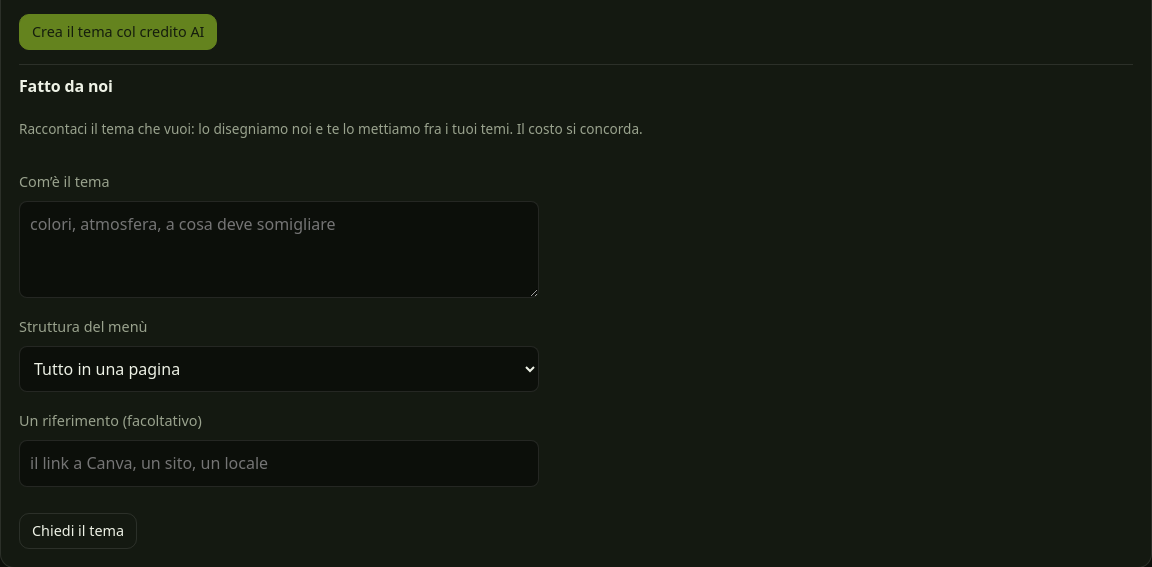
Scenario: i temi su misura nella dashboard › dal fornitore: il racconto, la struttura e un riferimento; poi dice che scriviamo noi
(page scrolled)
In the text box labelled "Com’è il tema": (279, 249) [19,201,539,298], type "Verde bosco, caratteri serif"
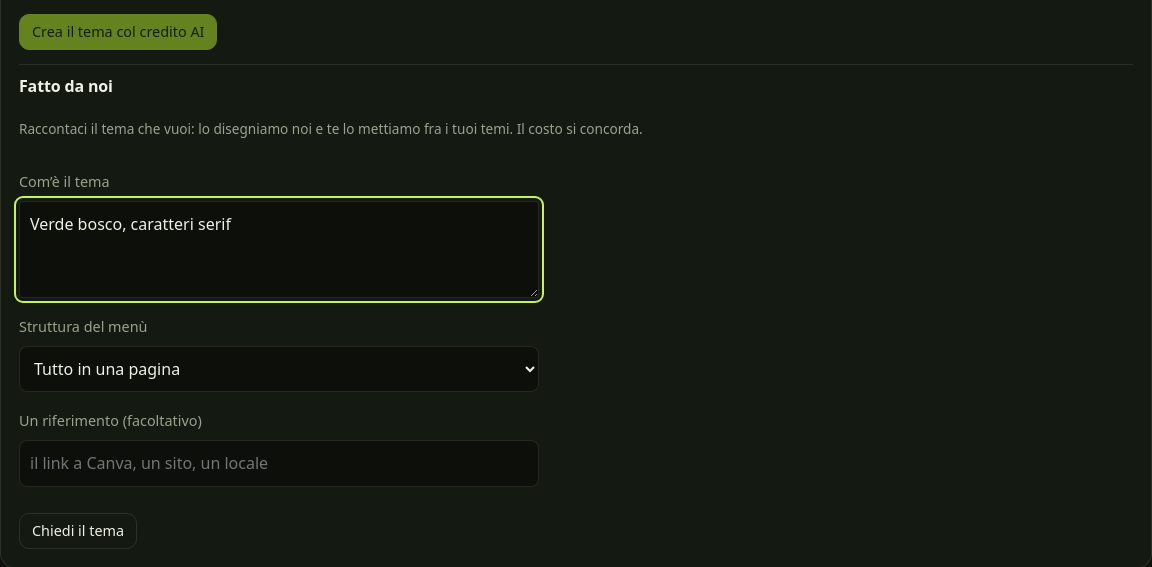
Select "Una pagina per categoria" in the dropdown labelled "Struttura del menù" below "Com’è il tema": (279, 369) [19,346,539,392]
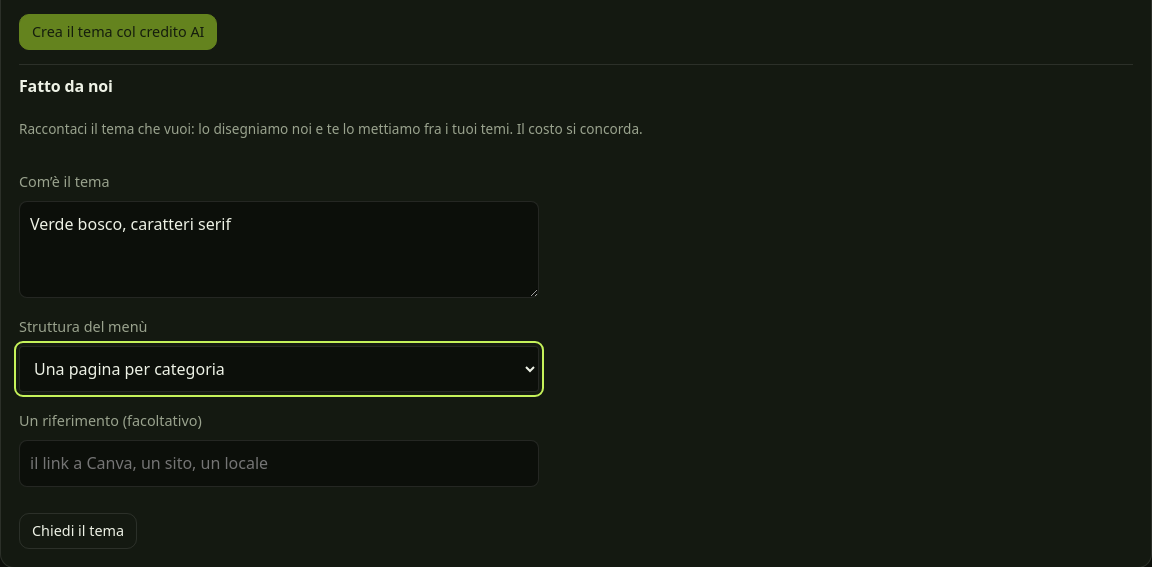
In the field labelled "Un riferimento (facoltativo)": (279, 464) [19,440,539,487], type "https://canva.com/x"
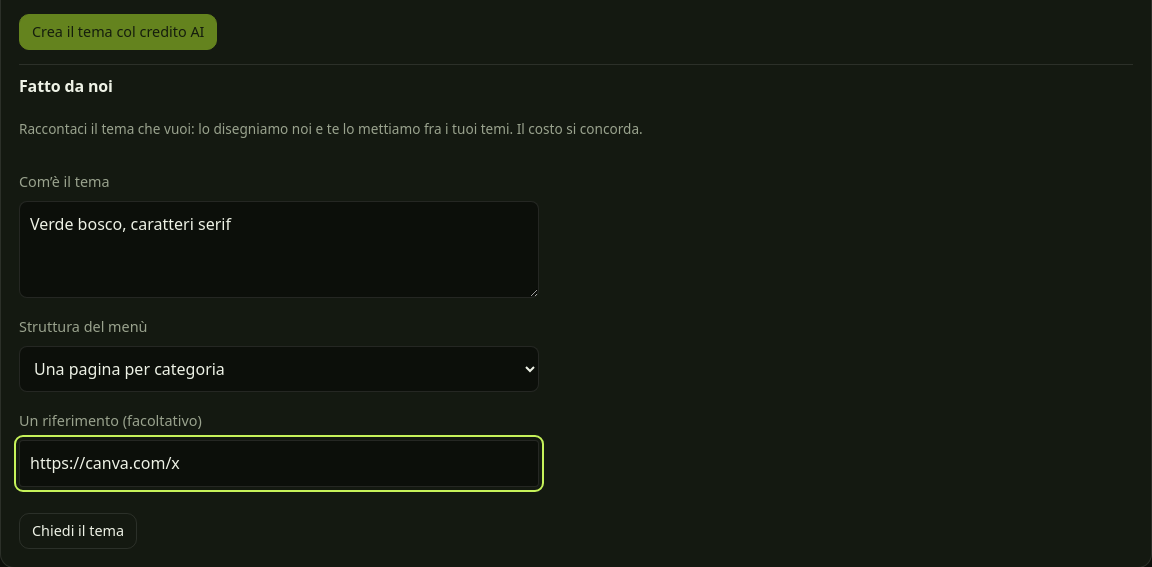
Click the button "Chiedi il tema": (78, 531) [19,513,137,549]
(page scrolled)
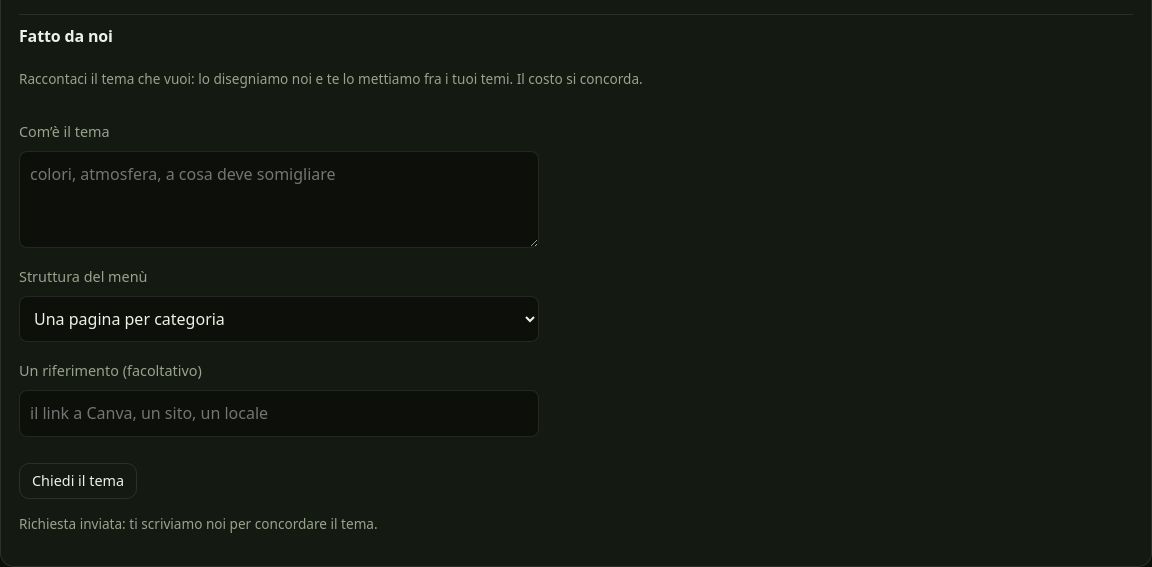
Now the text "Richiesta inviata: ti scriviamo noi per concordare il tema." is shown, box [19,514,378,533]
